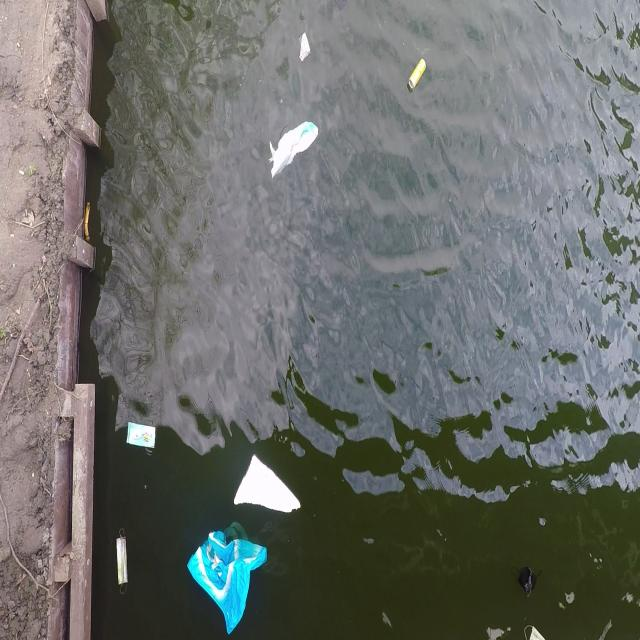Autre plastique: (232, 450, 308, 520)
Non plastique: (111, 524, 132, 598), (406, 49, 430, 96)
Sac plastique: (184, 527, 274, 640), (258, 114, 323, 180)
